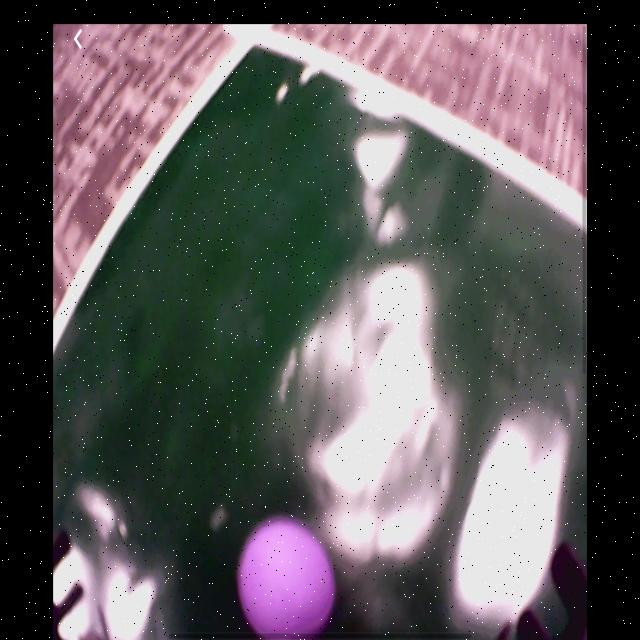ball: (238, 518, 335, 640)
